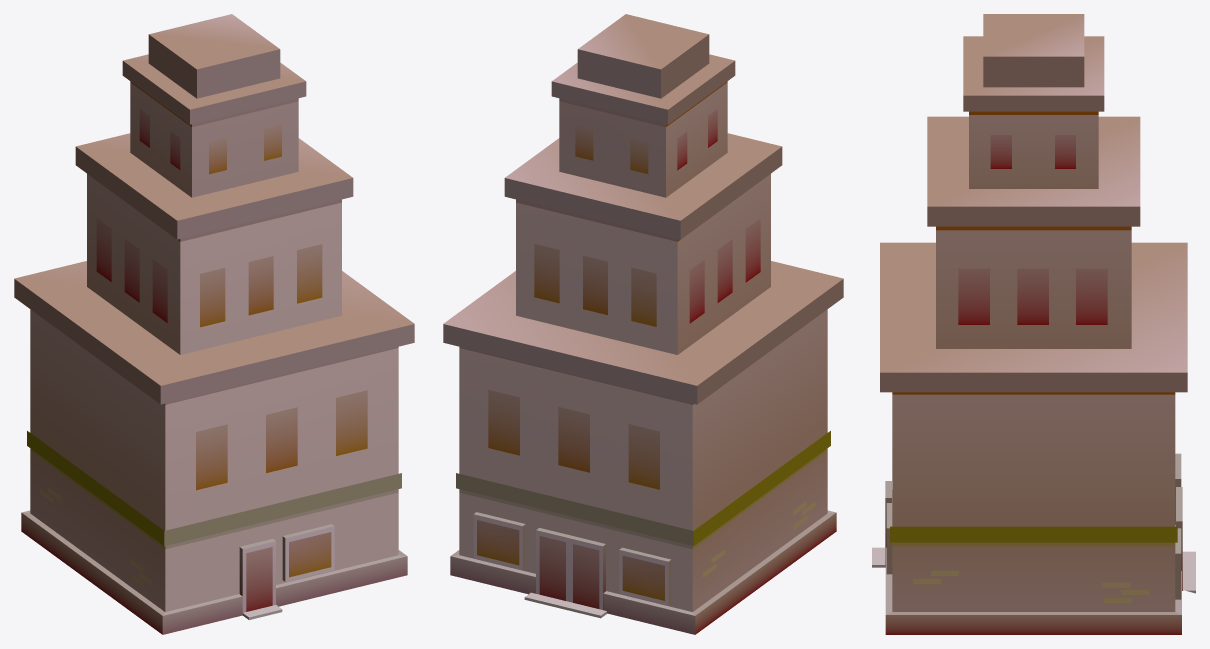
File: build_g.glb
3 views of the same model, side by side, from view 1: azimuth 30°, elevation 25°; view 2: azimuth 150°, elevation 25°; view 3: azimuth 270°, elevation 25° (orthographic). The views are drawn at different scales.
Parts seen in each view (by area): view 1: build_g; view 2: build_g; view 3: build_g.
Boxes of the visible parts, box(x1,y1,x2,y2) form: build_g: box(14, 14, 414, 634); build_g: box(443, 14, 843, 634); build_g: box(872, 14, 1195, 634).
Size of the model in its own units: 1.99 by 3.84 by 2.1.
